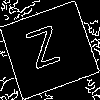Z: (24, 24, 67, 79)
